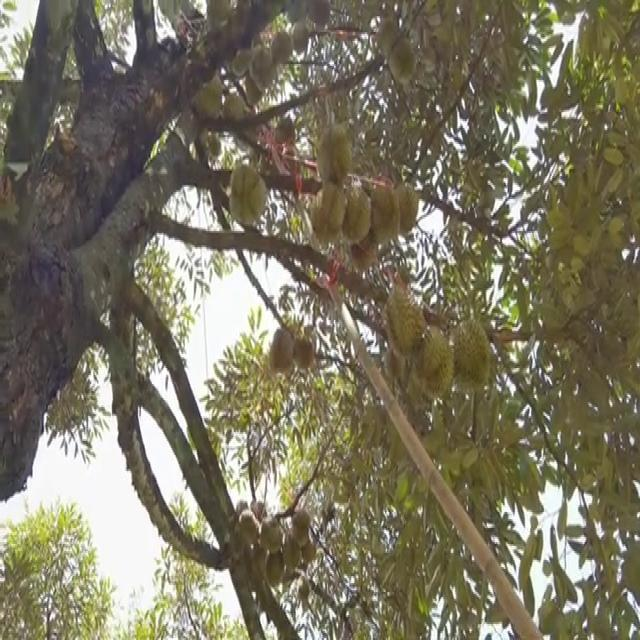durian: (446, 305, 495, 395), (382, 277, 430, 357), (414, 326, 452, 408), (312, 117, 356, 186), (228, 162, 270, 234), (304, 182, 348, 250), (362, 178, 398, 250), (336, 183, 374, 248), (344, 226, 381, 278), (391, 178, 420, 239), (190, 77, 226, 126), (267, 322, 295, 375), (384, 38, 419, 80), (246, 48, 279, 92), (235, 501, 262, 550), (247, 536, 272, 588), (291, 332, 315, 383), (376, 16, 404, 57), (244, 71, 274, 108), (269, 28, 294, 68), (290, 499, 312, 544), (263, 515, 286, 558), (225, 46, 255, 78), (264, 547, 287, 588), (203, 0, 232, 32), (283, 535, 304, 574), (224, 92, 252, 120), (308, 0, 333, 31), (292, 21, 310, 57), (301, 538, 318, 566)
